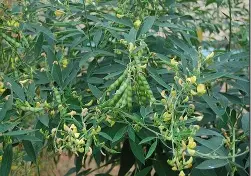crops: (0, 0, 247, 172), (97, 46, 153, 109)
